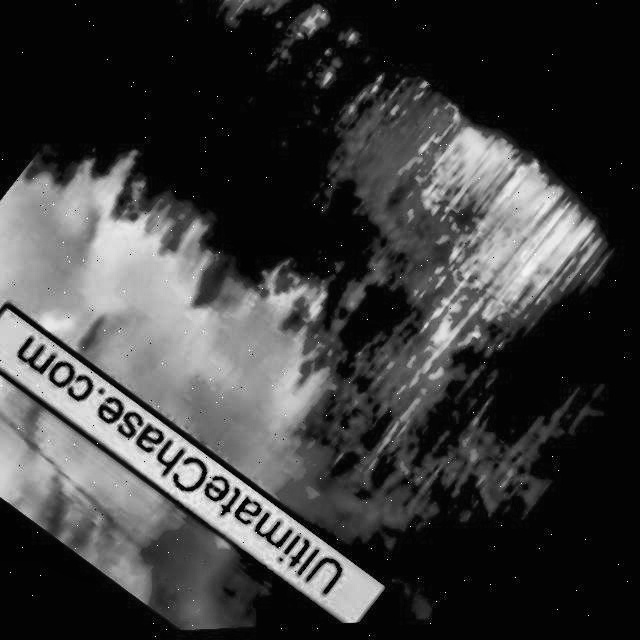Fire: (360, 109, 621, 362), (344, 50, 432, 138), (203, 0, 290, 29), (292, 0, 334, 43)
Smoke: (0, 108, 570, 640), (0, 358, 425, 640)
